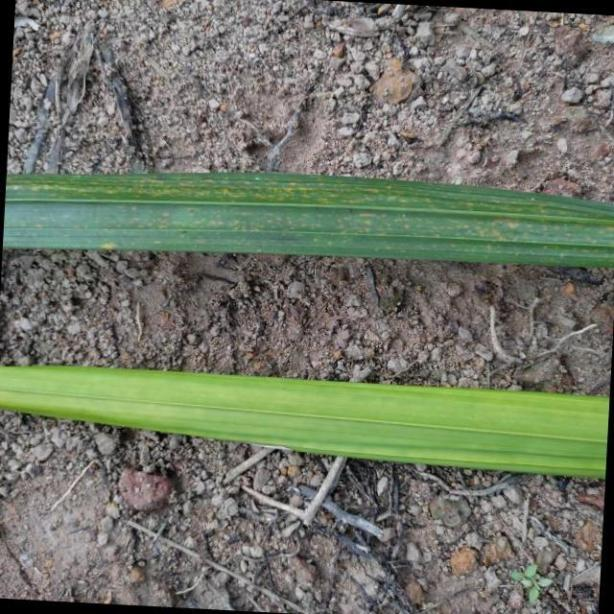nitrogen: (0, 361, 614, 484), (0, 166, 614, 267)
